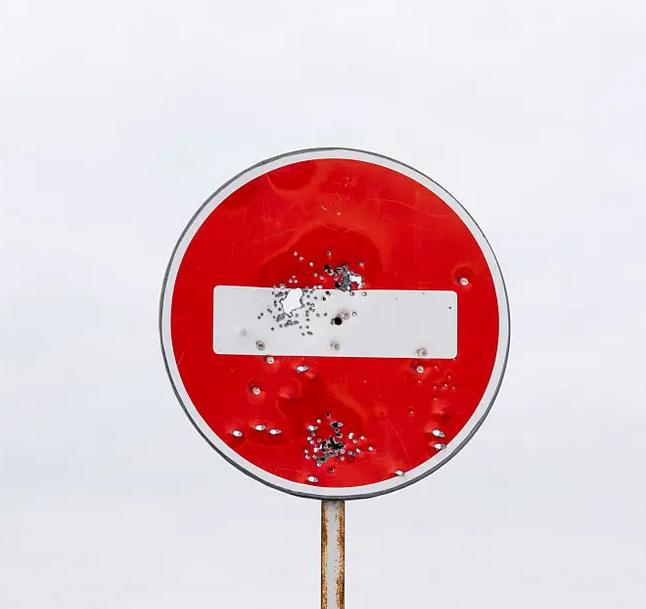obstructed_road_sign: (161, 148, 509, 499)
